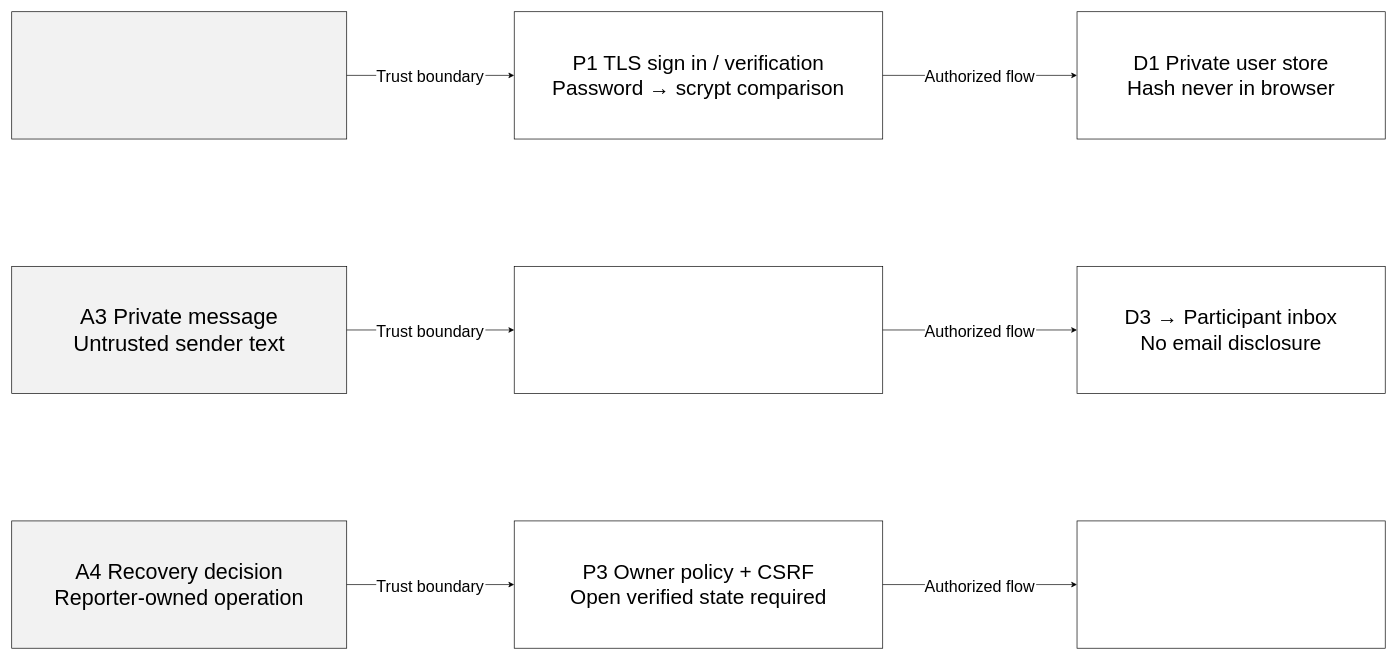
This 1397x660 diagram has some shape labels left out. Each missing label, with the box of its shape:
A1 Credentials Email + password: (11, 11, 347, 139)
D2 Updated state D4 Audit metadata: (1076, 520, 1385, 648)
P3 Recipient policy Escaping + sender throttle: (514, 266, 883, 394)
